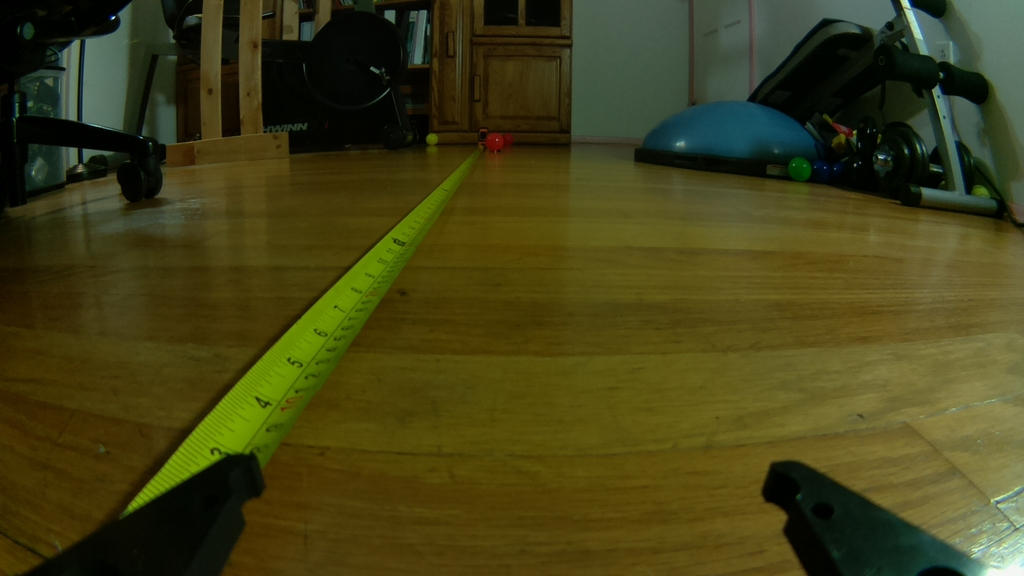ball: (482, 131, 503, 149)
